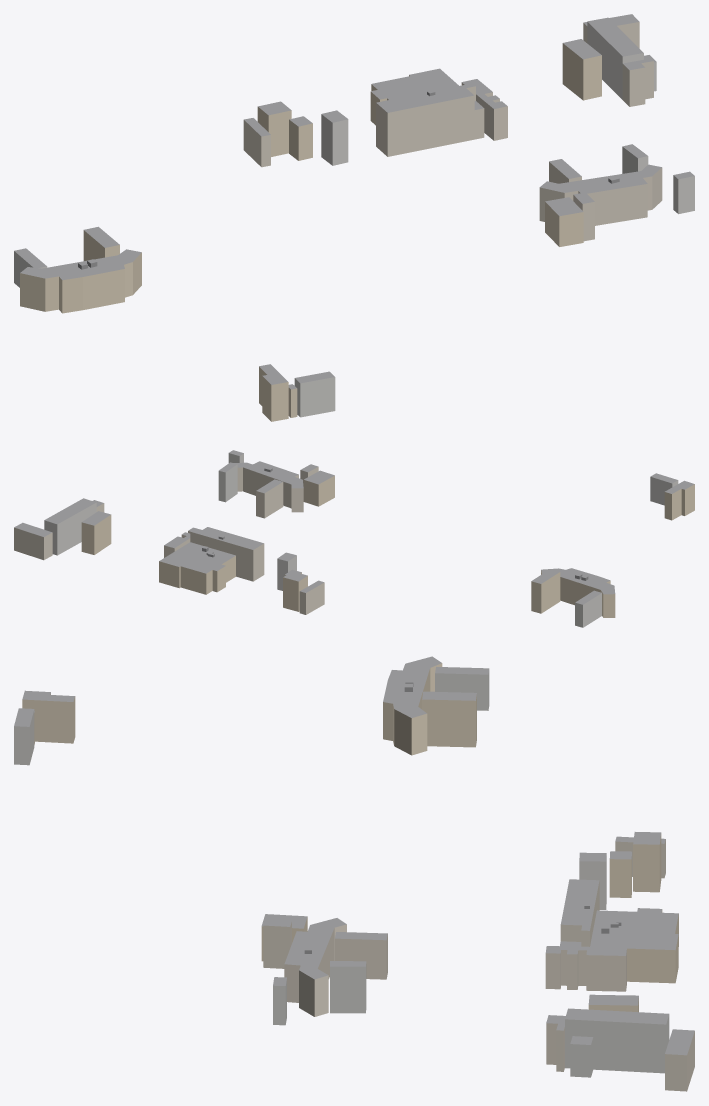
The model's file is building_3_-4.glb.
3 views of the same model, one above another, from view 1: azimuth 30°, elevation 25°; view 2: azimuth 150°, elevation 25°; view 3: azimuth 270°, elevation 25° (orthographic). The views are drawn at different scales.
Parts seen in each view (by area): view 1: concrete_warm, roof, sandstone, concrete_light; view 2: sandstone, roof, concrete_warm, concrete_light; view 3: roof, sandstone, concrete_warm, concrete_light.
Boxes of the visible parts, bbox=[...] form: concrete_warm: bbox=[243, 22, 662, 241]; roof: bbox=[14, 14, 694, 389]; sandstone: bbox=[20, 43, 601, 421]; concrete_light: bbox=[14, 22, 694, 417]; sandstone: bbox=[81, 475, 694, 617]; roof: bbox=[14, 450, 694, 604]; concrete_warm: bbox=[14, 467, 324, 614]; concrete_light: bbox=[44, 453, 678, 627]; roof: bbox=[14, 656, 694, 1055]; sandstone: bbox=[22, 663, 678, 1012]; concrete_warm: bbox=[263, 839, 694, 1091]; concrete_light: bbox=[14, 670, 669, 1077].
Size of the model in its own units: 265 by 16.36 by 192.
